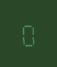zero: (19, 20, 36, 46)
